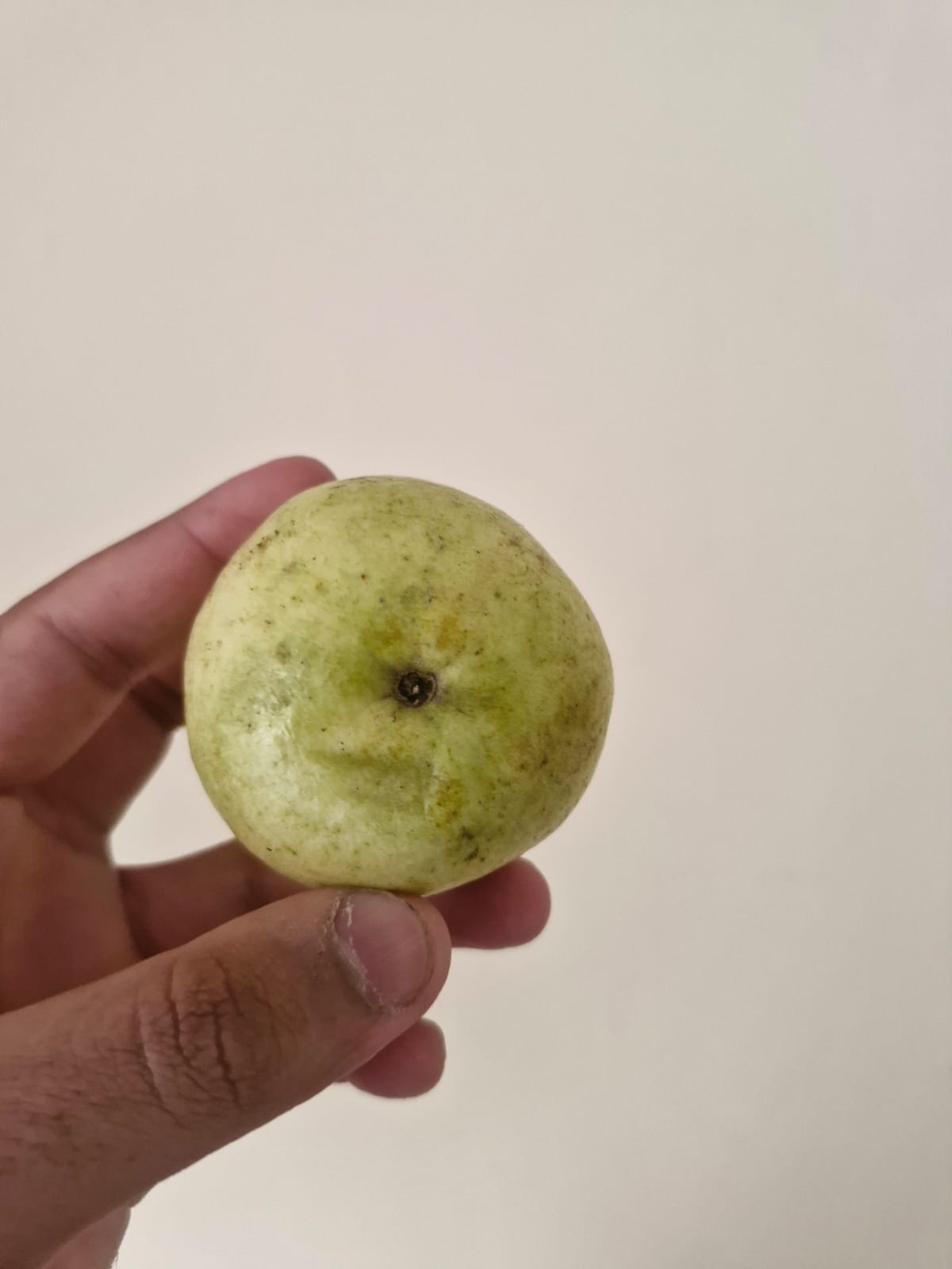guava: (85, 15, 902, 1042)
